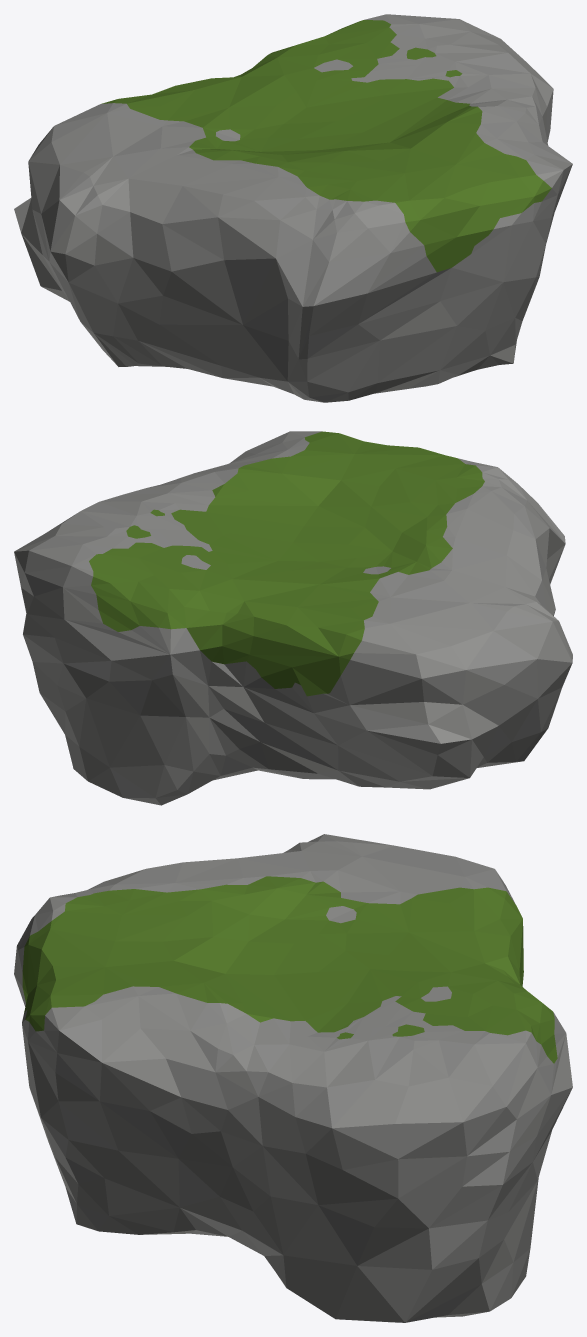
The model's file is Cavern_FloorGrass_Wide_Narrow-01.fbx.
The picture shows the model from 3 angles, top to bottom: view 1: azimuth 30°, elevation 25°; view 2: azimuth 150°, elevation 25°; view 3: azimuth 270°, elevation 25°; orthographic projection. The views are drawn at different scales.
Visible parts, largest first — view 1: Cavern_FloorGrass_Wide_Narrow-01; view 2: Cavern_FloorGrass_Wide_Narrow-01; view 3: Cavern_FloorGrass_Wide_Narrow-01.
Boxes of the visible parts, left/top/right/bottom form: Cavern_FloorGrass_Wide_Narrow-01: left=14, top=14, right=572, bottom=402; Cavern_FloorGrass_Wide_Narrow-01: left=14, top=431, right=572, bottom=805; Cavern_FloorGrass_Wide_Narrow-01: left=14, top=834, right=572, bottom=1322.
Size of the model in its own units: 1417 by 659 by 1148.
Materials: 1 (1 with a texture image).
